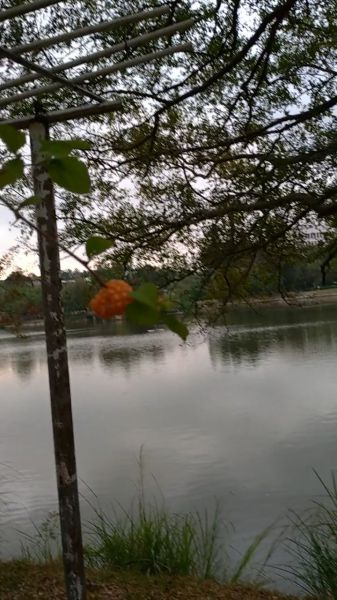eggs: (84, 275, 140, 324)
